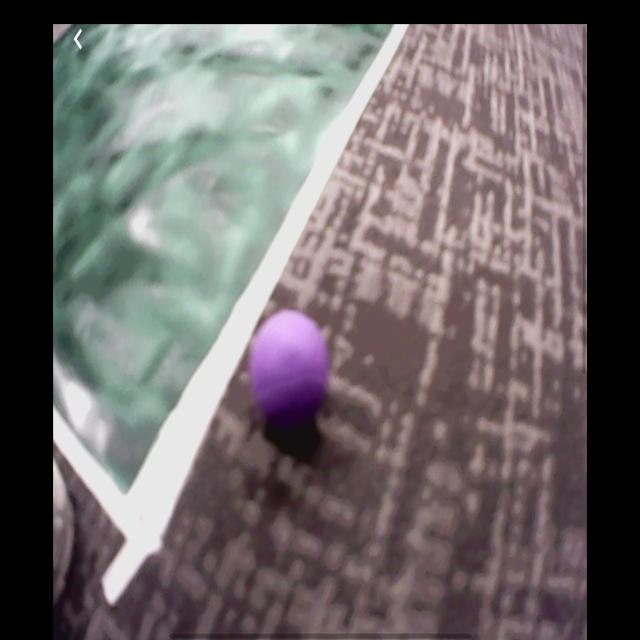ball: (250, 313, 328, 424)
